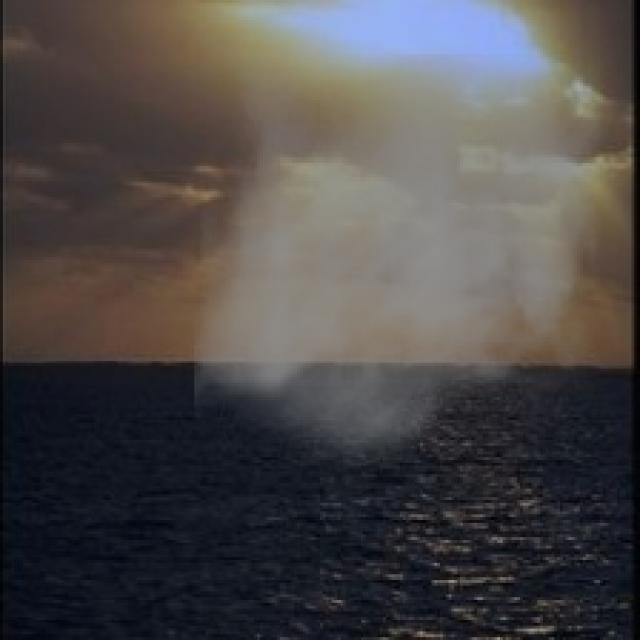smoke: (194, 54, 603, 480)
